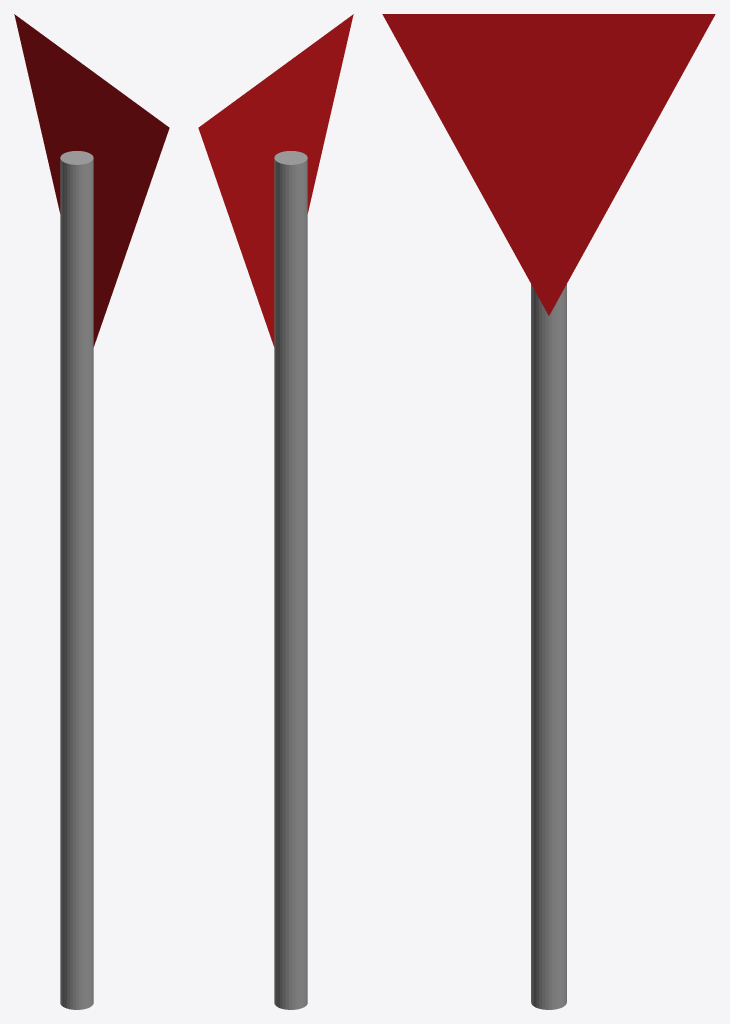
File: (Multi)StreetSign1WIP.fbx
3 renders of one model, left to right at view 1: azimuth 30°, elevation 25°; view 2: azimuth 150°, elevation 25°; view 3: azimuth 270°, elevation 25°, orthographic. The views are drawn at different scales.
Parts seen in each view (by area): view 1: Sign; view 2: Sign; view 3: Sign.
Part boxes in pixels (left/top/right/bottom): Sign: left=14, top=14, right=169, bottom=1009; Sign: left=198, top=14, right=353, bottom=1009; Sign: left=382, top=14, right=715, bottom=1009.
Size of the model in its own units: 12.09 by 364 by 111.
